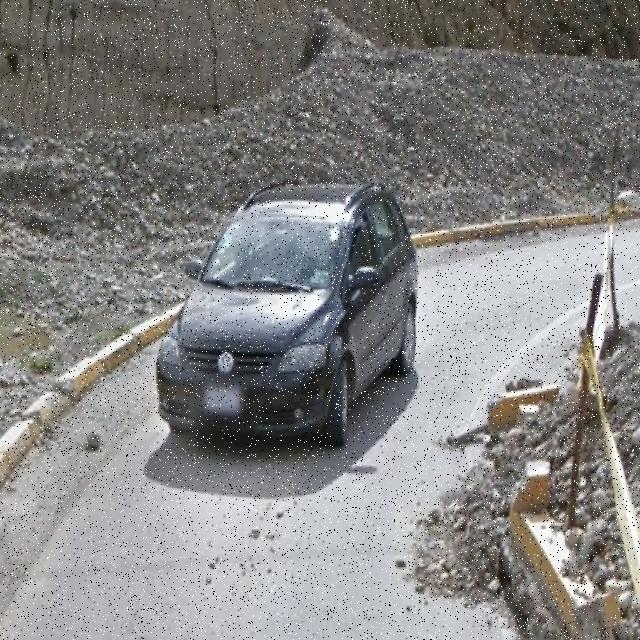cars: (150, 196, 417, 449)
